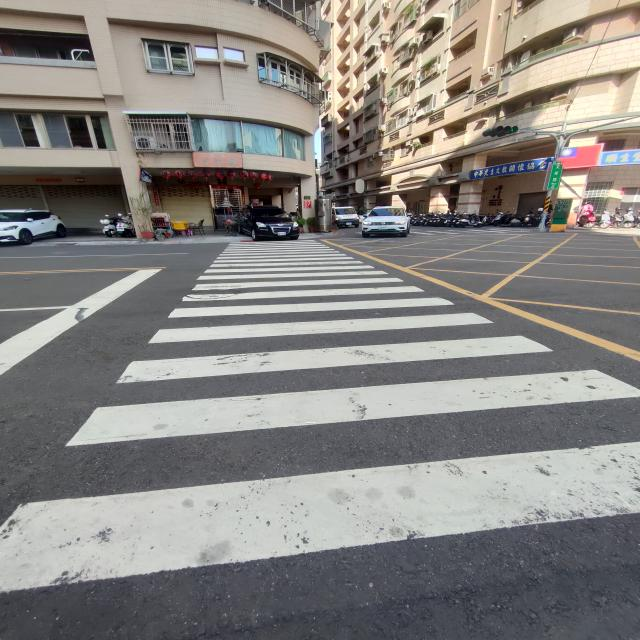zebra crossing: (0, 236, 640, 593), (411, 229, 529, 235)
